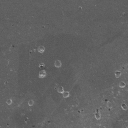corrosion: (36, 43, 47, 54), (53, 58, 63, 69), (37, 69, 48, 79), (120, 101, 128, 113), (56, 84, 65, 94), (93, 110, 102, 120), (38, 61, 46, 71), (27, 98, 35, 107), (114, 70, 122, 79), (63, 90, 70, 99), (119, 80, 126, 89), (5, 98, 13, 105)
